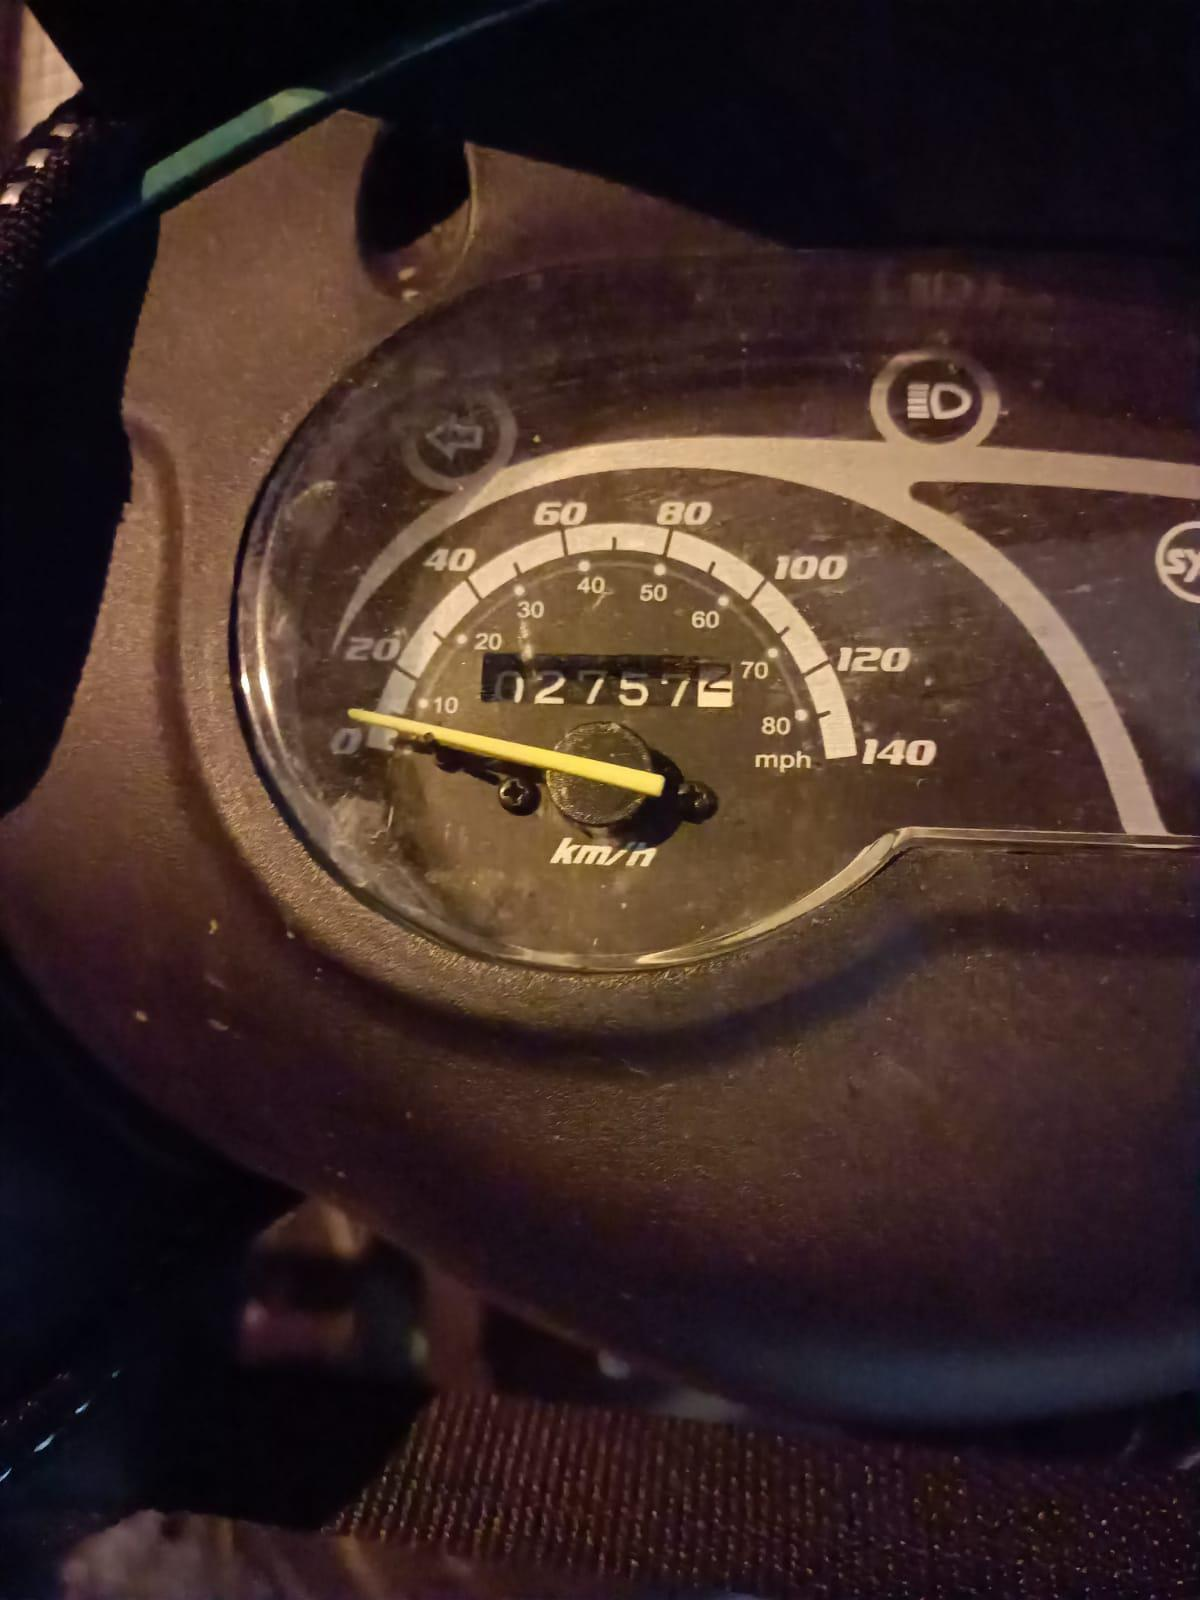0: (489, 666, 528, 711)
2: (529, 668, 567, 708), (701, 658, 734, 700)
5: (616, 665, 652, 709)
7: (659, 664, 692, 708), (575, 665, 608, 709)
odometer: (476, 649, 740, 721)
